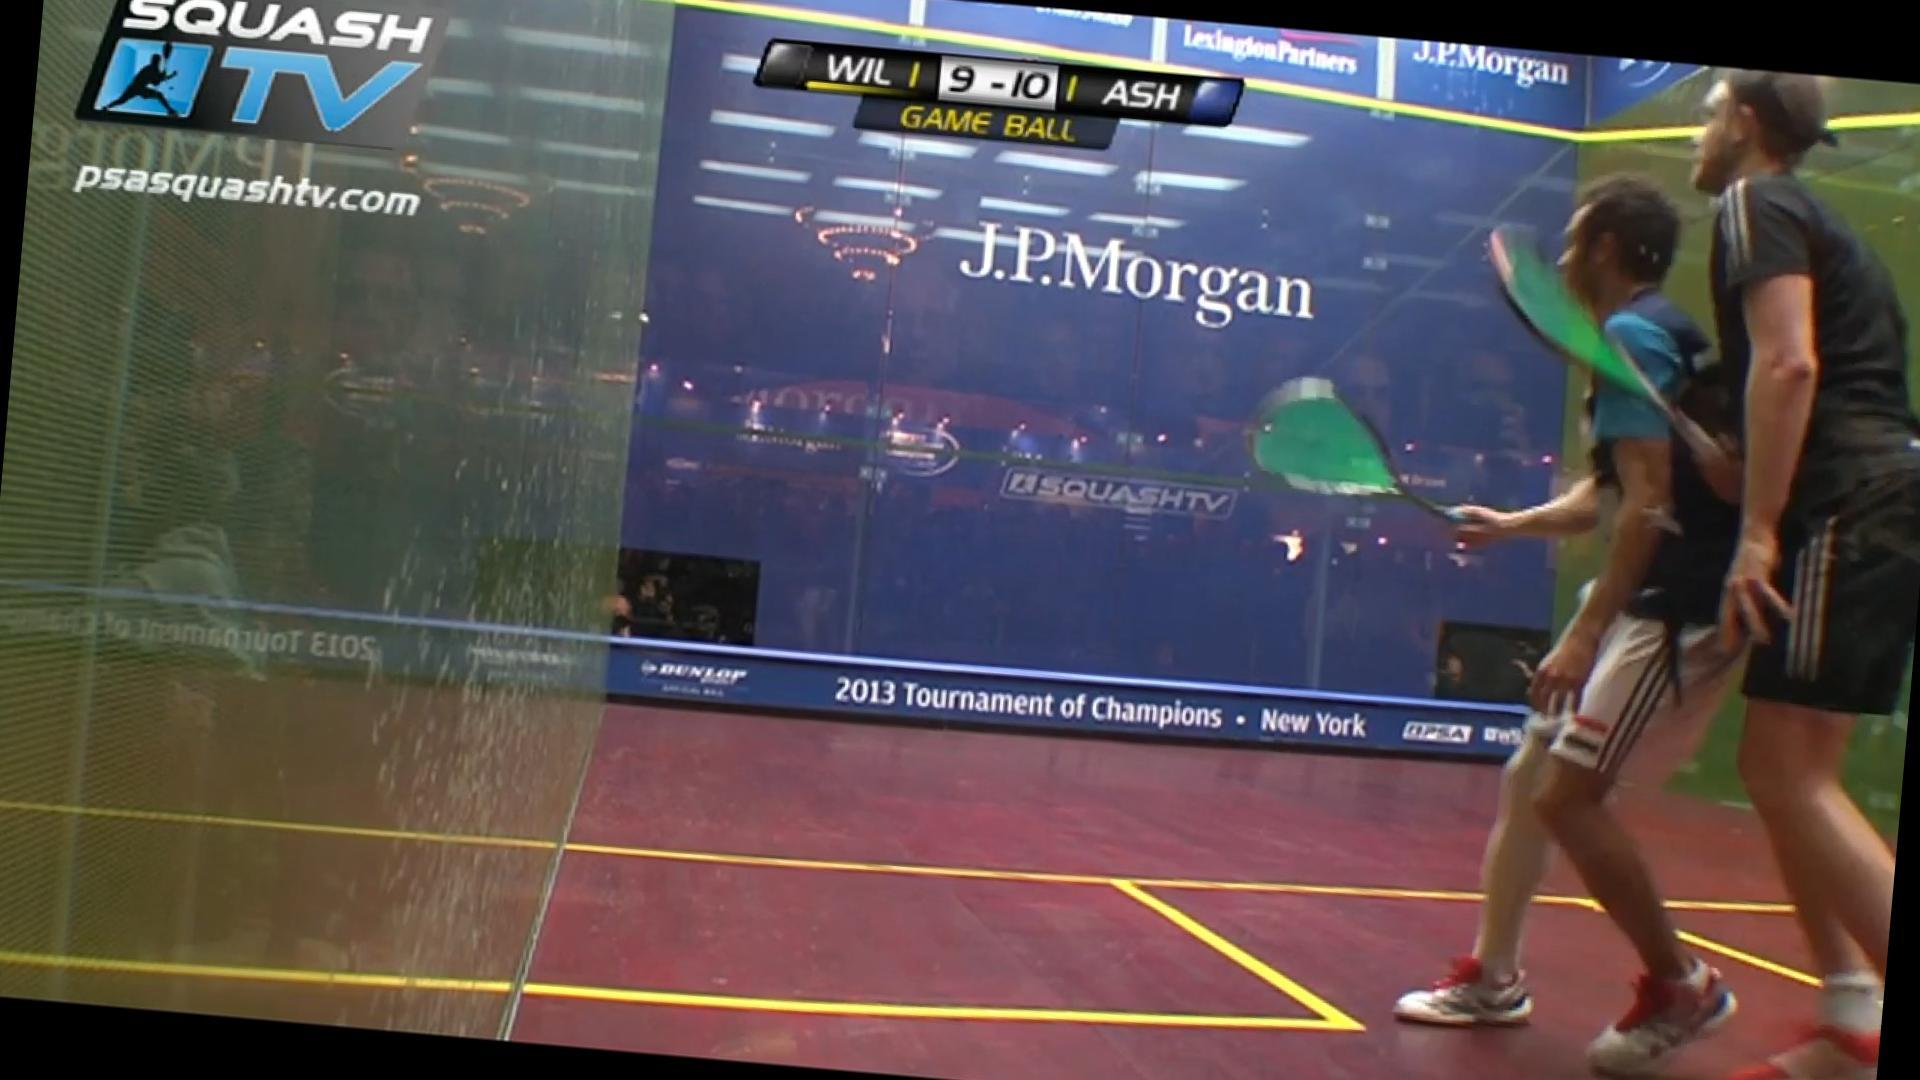Squash-Ball: (630, 306, 669, 331)
